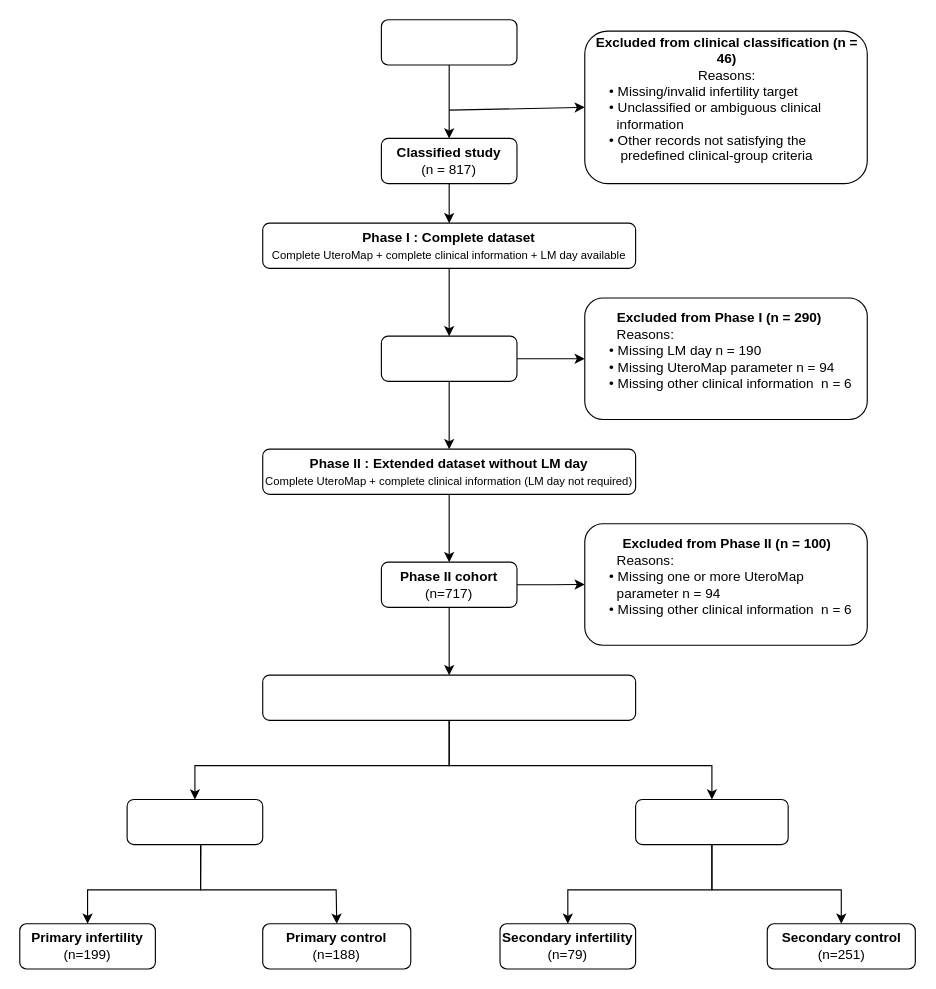
This 936x989 diagram has some shape labels left out. Here are the shapes that lost their labels. From the top down, the box of each, then its label:
(380, 19, 517, 65): Total Assessed (n = 863)
(380, 335, 517, 381): Phase I cohort (n=527)
(262, 674, 636, 720): Phase III : Stratified comparison Uses phase II extended dataset, n = 717
(126, 798, 263, 845): Primary comparison (n=387)
(634, 798, 788, 845): Secondary comparison (n=330)
